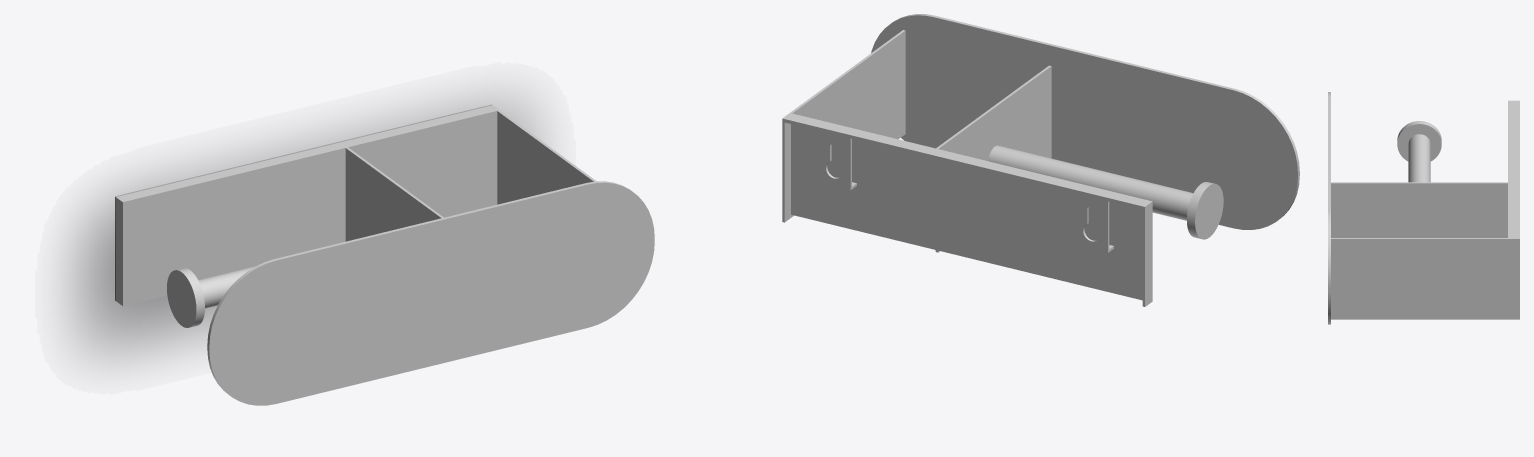
The model's file is round-duetto.b17e8b3405.ar.glb.
3 renders of one model, left to right at view 1: azimuth 30°, elevation 25°; view 2: azimuth 150°, elevation 25°; view 3: azimuth 270°, elevation 25°, orthographic. The views are drawn at different scales.
Parts seen in each view (by area): view 1: NAUO1, object 2; view 2: NAUO1; view 3: NAUO1.
Boxes of the visible parts, left/top/right/bottom form: NAUO1: left=115, top=104, right=654, bottom=405; object 2: left=69, top=101, right=537, bottom=355; NAUO1: left=782, top=14, right=1299, bottom=306; NAUO1: left=1328, top=92, right=1519, bottom=324.
Size of the model in its own units: 0.34 by 0.16 by 0.129.
Materials: 2 (1 with a texture image).
